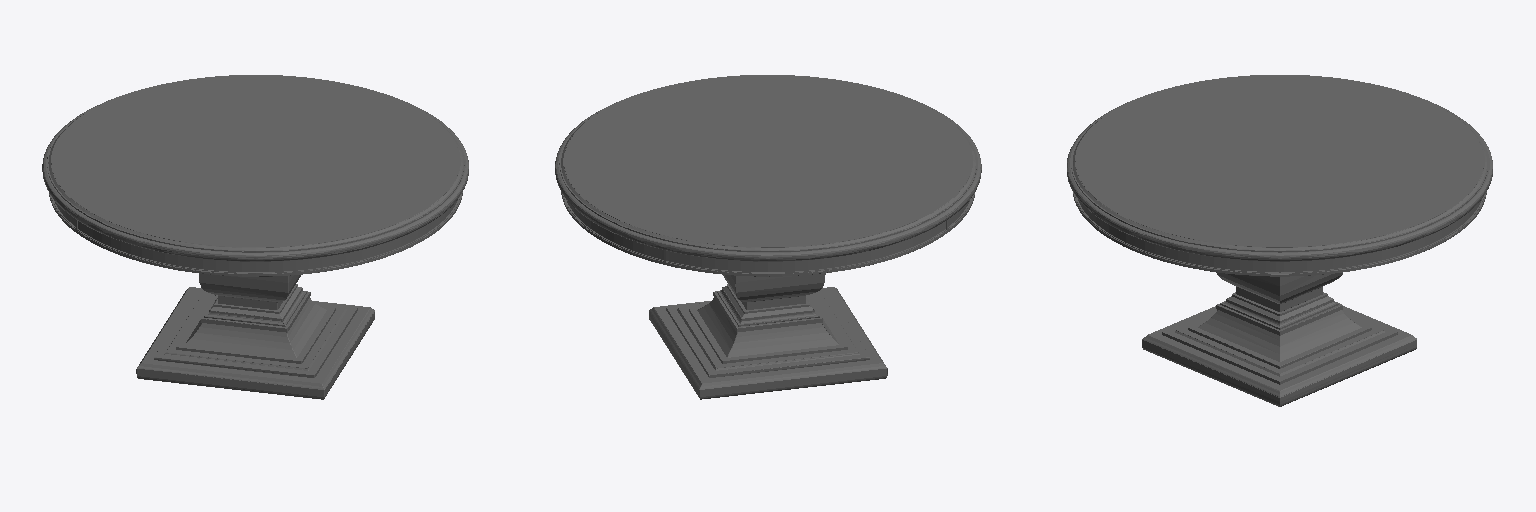
The model's file is table.obj.
3 views of the same model, side by side, from view 1: azimuth 30°, elevation 25°; view 2: azimuth 150°, elevation 25°; view 3: azimuth 270°, elevation 25° (orthographic).
Parts seen in each view (by area): view 1: Archmodels65_11_02; view 2: Archmodels65_11_02; view 3: Archmodels65_11_02.
Part boxes in pixels (left/top/right/bottom): Archmodels65_11_02: left=42, top=75, right=468, bottom=399; Archmodels65_11_02: left=555, top=75, right=981, bottom=399; Archmodels65_11_02: left=1067, top=75, right=1492, bottom=406.
Bounding box in the file's own units: 11.98 × 5.87 × 11.96.